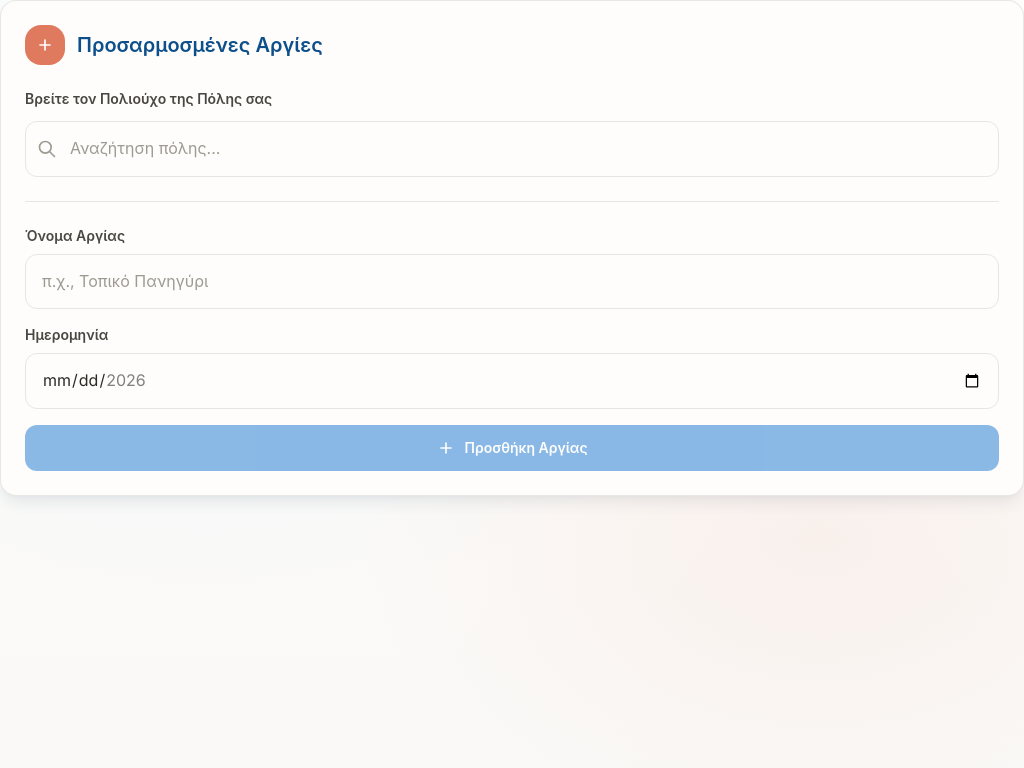
Test: CustomHolidaysCard › Manual Holiday Form › should enable add button when form is filled
Type "Test Holiday" into the field with id "holidayName".
click(512, 281); type("Test Holiday")  # box [25,254,999,309]
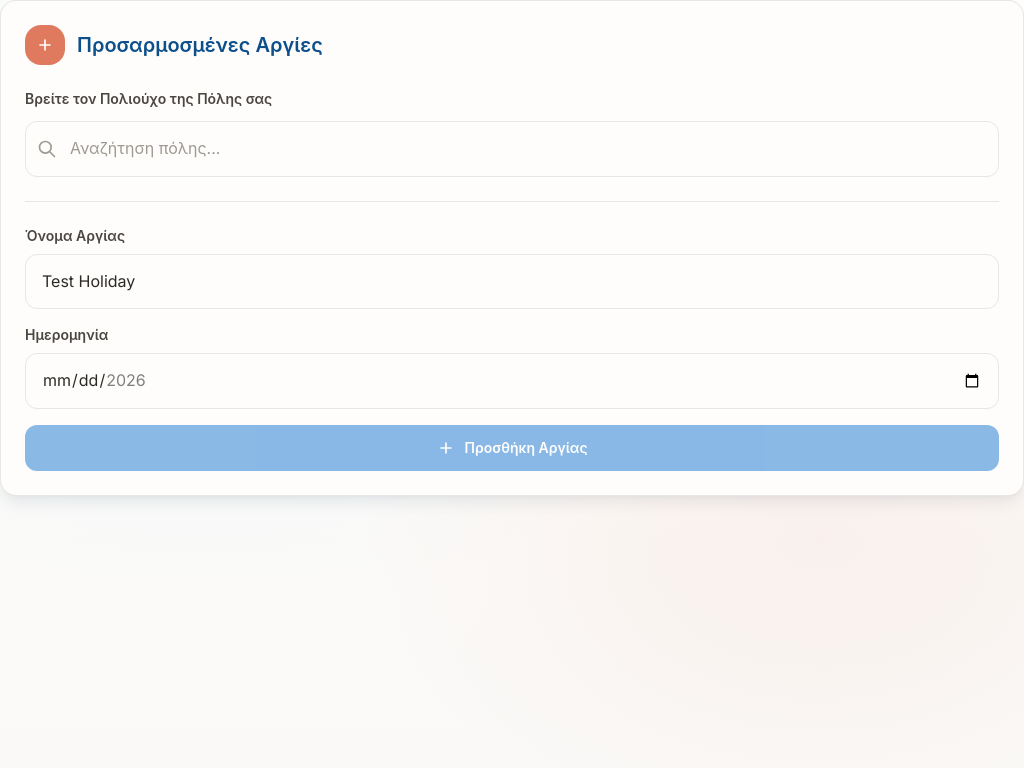
Type "2026-05-15" into the date field with id "holidayDate".
click(512, 381); type("2026-05-15")  # box [25,353,999,409]
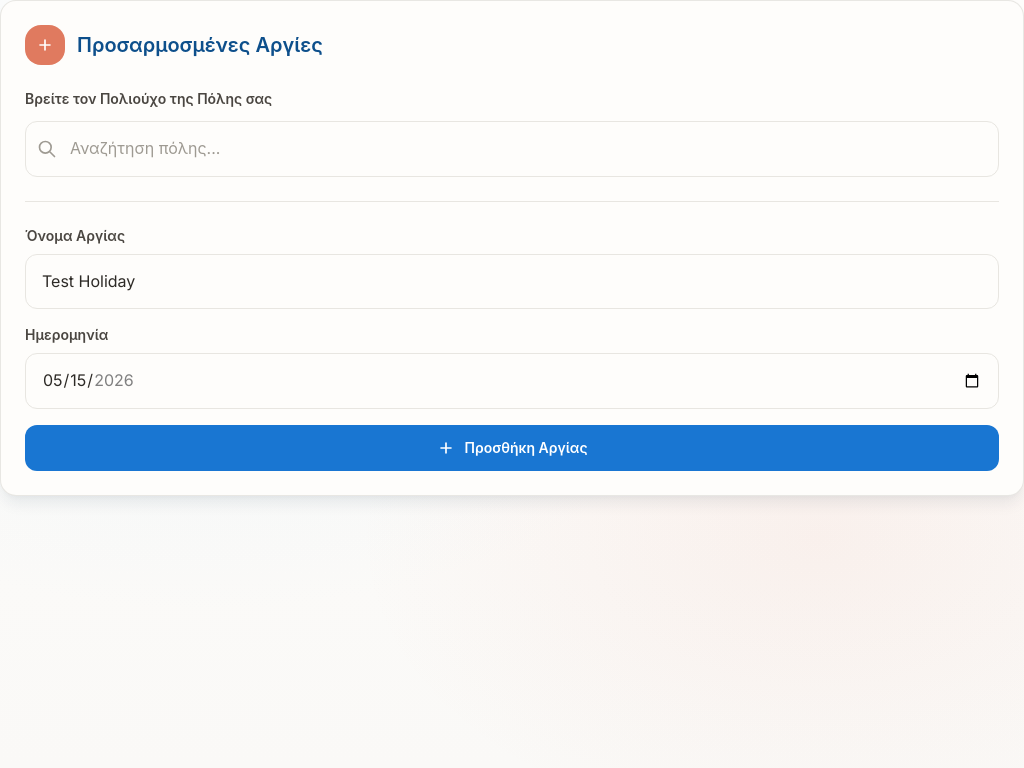
Expected: the button "Προσθήκη Αργίας" is enabled, [25,425,999,471]
